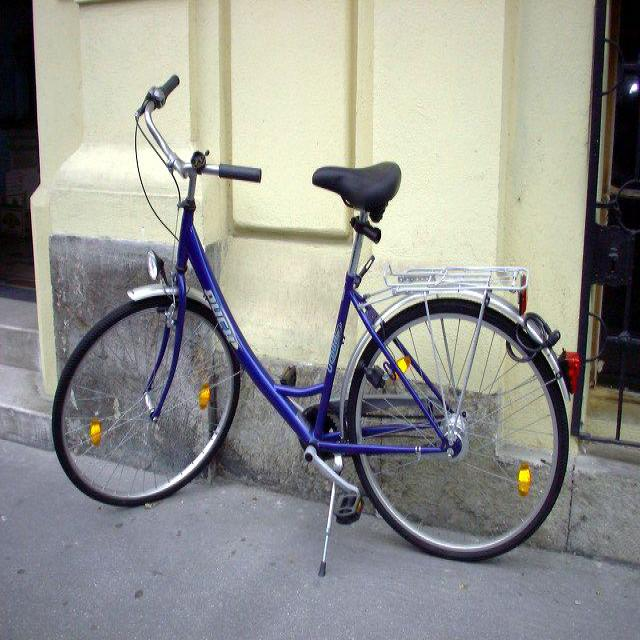bicycle: (50, 73, 572, 572)
